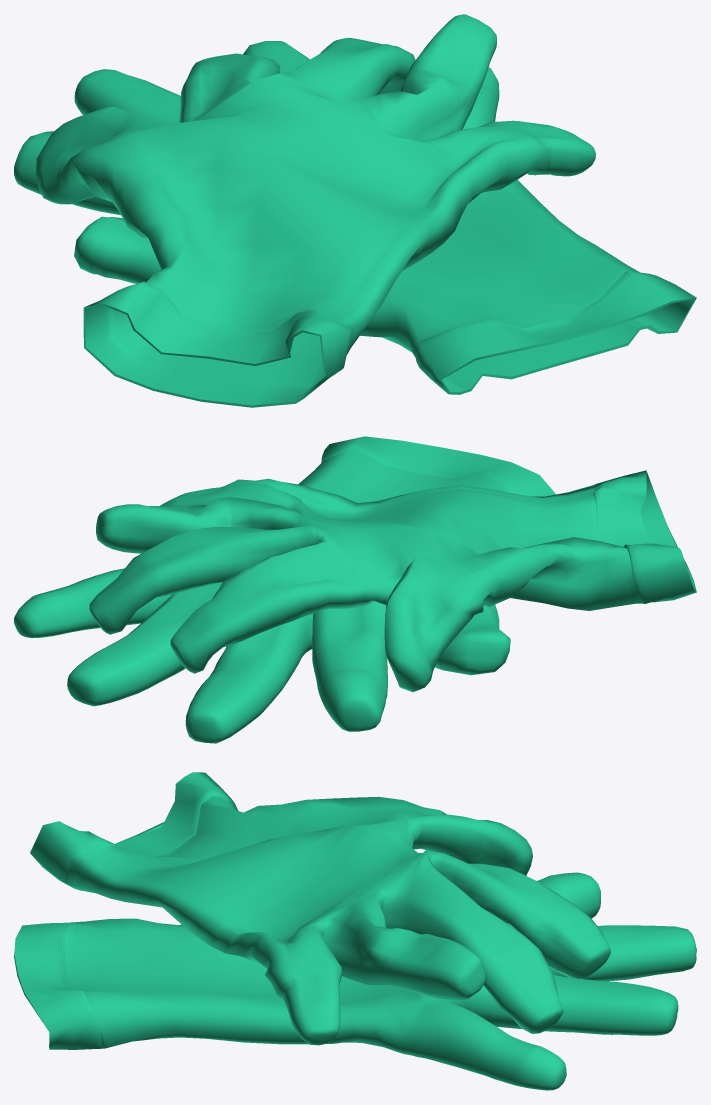
The model's file is Perchatki.glb.
3 renders of one model, top to bottom at view 1: azimuth 30°, elevation 25°; view 2: azimuth 150°, elevation 25°; view 3: azimuth 270°, elevation 25°, orthographic. The views are drawn at different scales.
Parts seen in each view (by area): view 1: Gloves2; view 2: Gloves2; view 3: Gloves2.
Part boxes in pixels (x1,y1,x2,y2): Gloves2: (14, 14, 696, 407); Gloves2: (14, 436, 696, 743); Gloves2: (14, 772, 696, 1090).
Size of the model in its own units: 4.15 by 0.9447 by 4.71.
